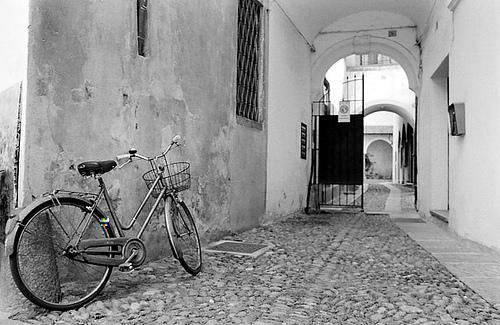car: (5, 133, 205, 312)
